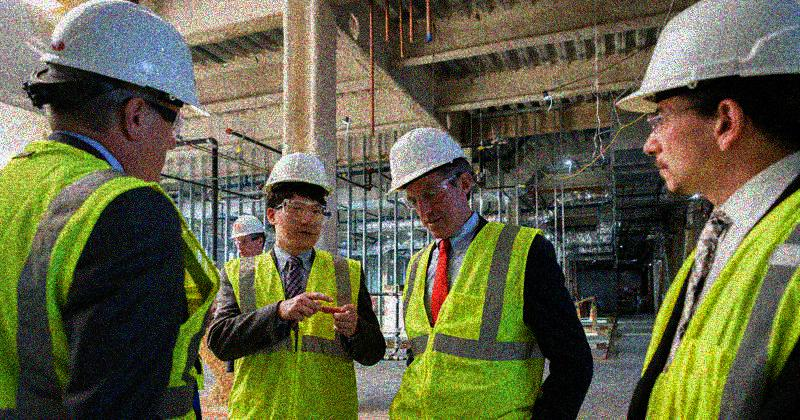helmet: (24, 1, 211, 192), (616, 2, 800, 190), (386, 129, 471, 239), (259, 151, 334, 248), (228, 214, 265, 258)
